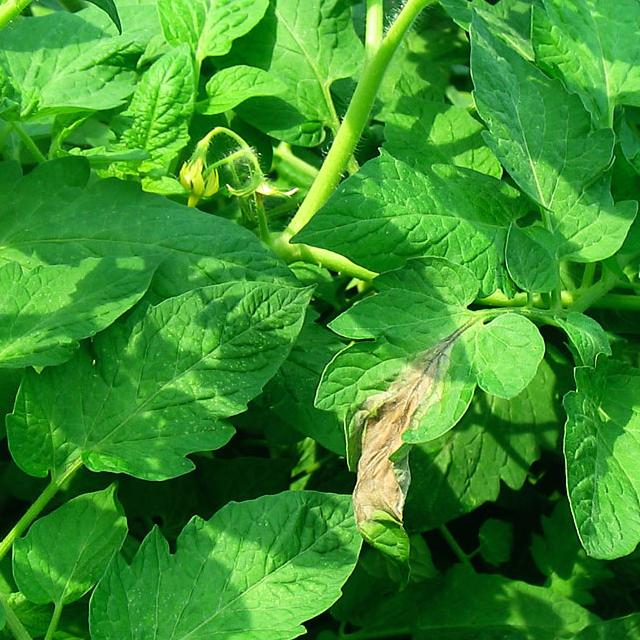Tomato leaf late blight: (9, 268, 314, 516), (446, 0, 640, 295), (318, 287, 533, 502), (81, 502, 370, 640), (0, 229, 143, 392), (556, 325, 640, 570), (5, 480, 135, 612), (536, 0, 640, 161)
